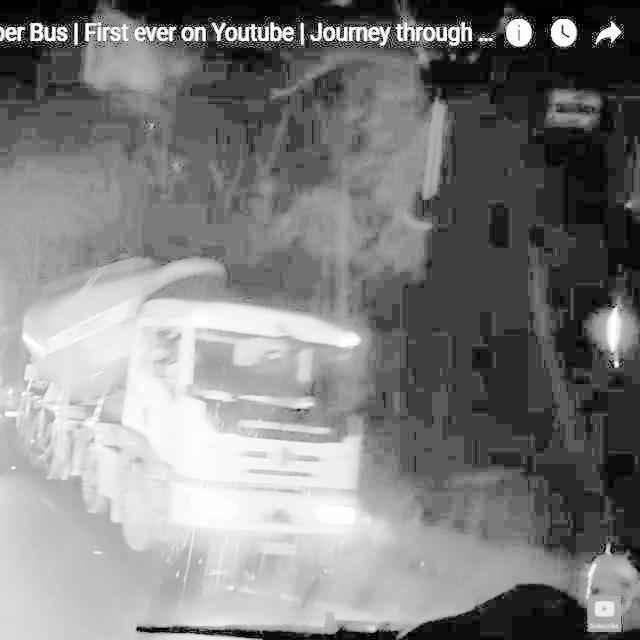Truck: (12, 254, 373, 601)
